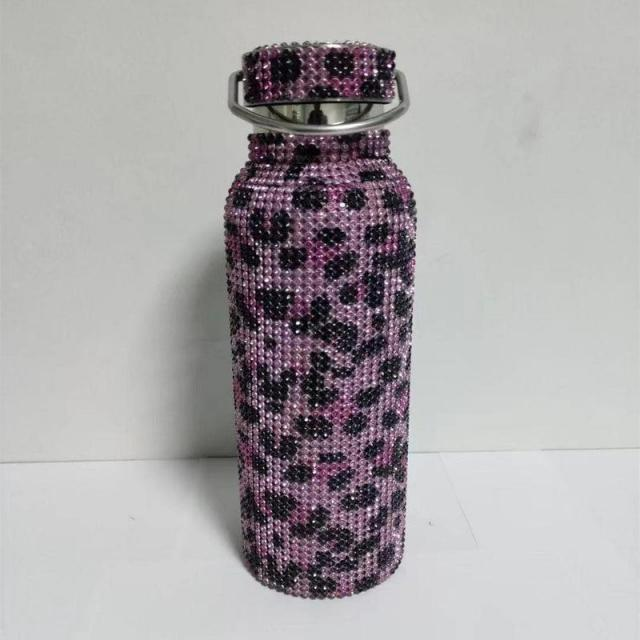gym bottle: (219, 21, 422, 603)
